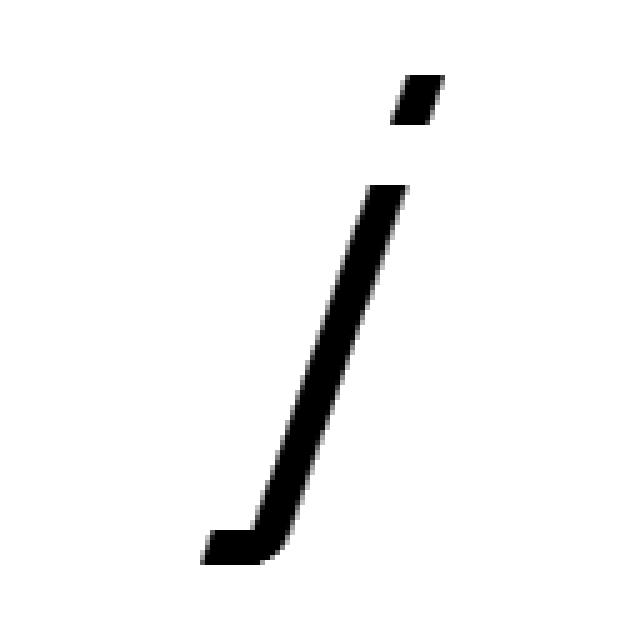J: (190, 65, 450, 570)
